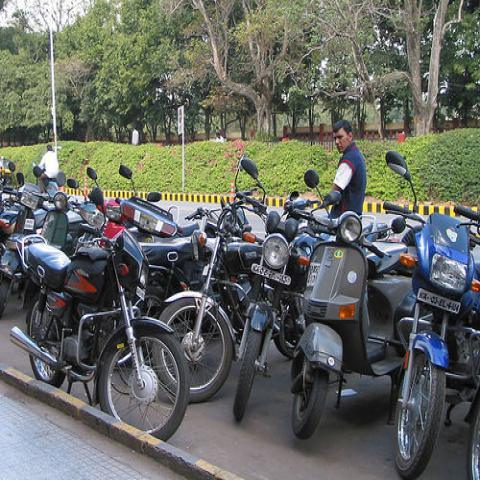motorcycle: (8, 188, 188, 442), (232, 158, 375, 424), (289, 168, 412, 443), (379, 143, 479, 475), (156, 204, 257, 397), (132, 230, 216, 318), (1, 176, 50, 318), (116, 164, 199, 243), (42, 188, 81, 252)
